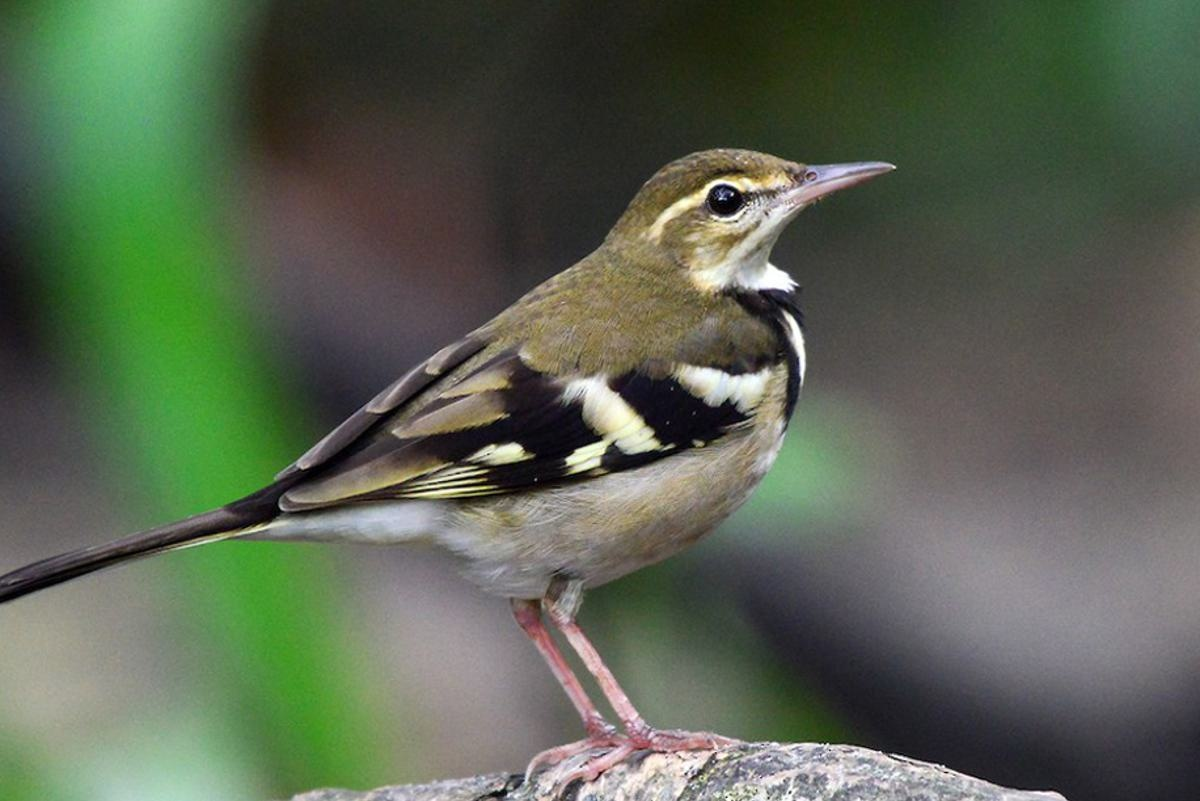wagtail: (61, 91, 905, 721)
